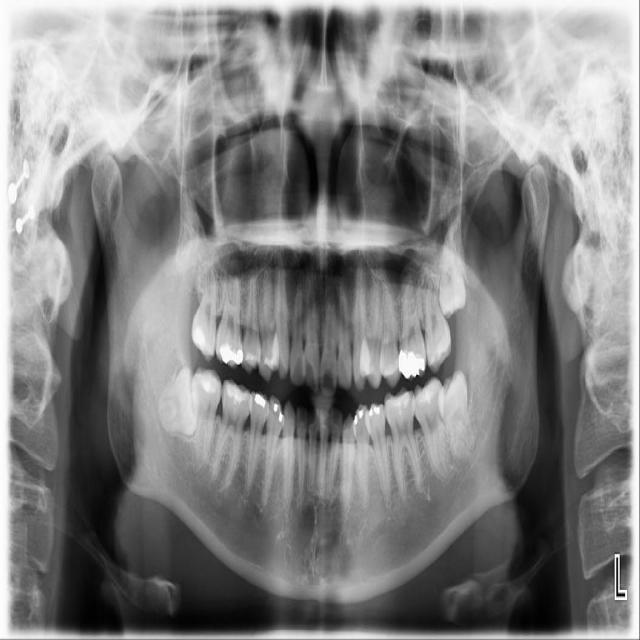Filling: (399, 350, 424, 379), (195, 369, 221, 393), (414, 379, 438, 403), (264, 334, 279, 370), (194, 323, 210, 355), (221, 343, 244, 364), (224, 383, 247, 403), (385, 393, 409, 411), (255, 394, 266, 408), (245, 352, 255, 361), (357, 409, 364, 418), (278, 412, 283, 423), (374, 407, 380, 415), (274, 403, 279, 412), (369, 408, 373, 416), (354, 414, 357, 424)
impacted tooth: (439, 371, 478, 467), (436, 218, 470, 313), (156, 366, 196, 436)
